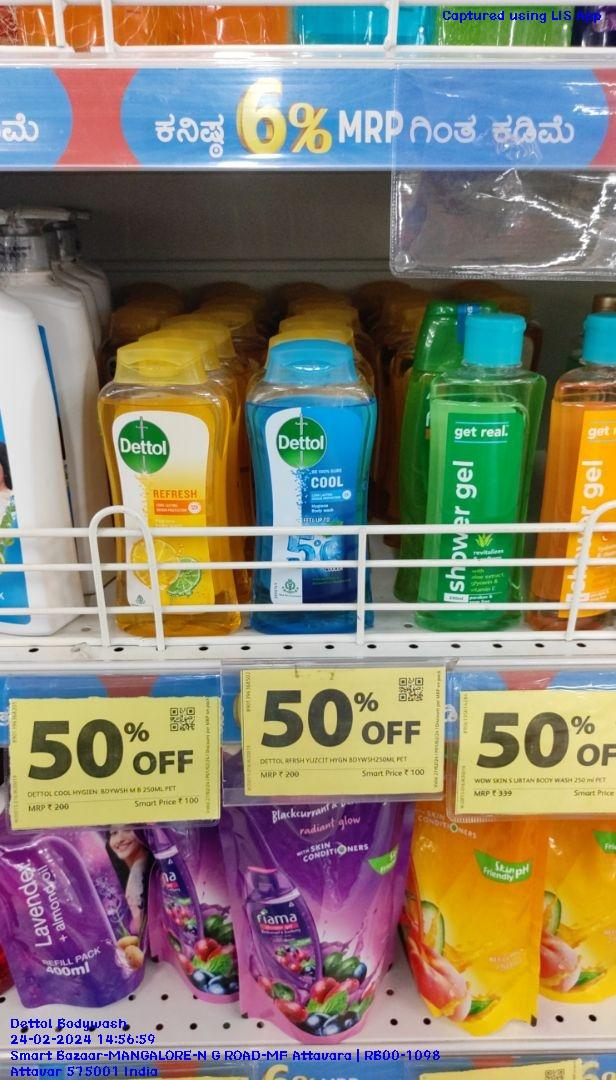Dettol_Bodywash_Cool: (251, 340, 365, 635)
Dettol_Bodywash_Refresh: (98, 347, 243, 633)
